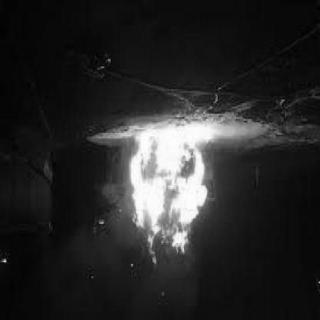Fire: (128, 130, 208, 266)
